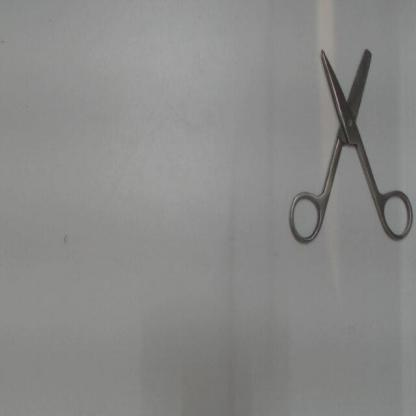Dressing Scissors: (278, 29, 415, 251)
